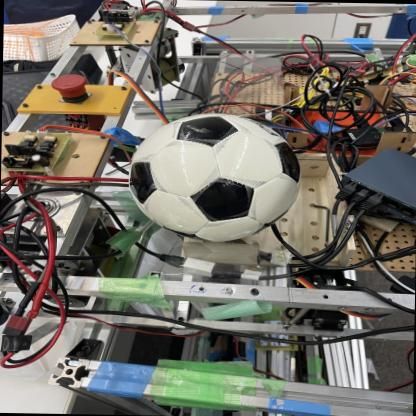ball: (128, 112, 298, 244)
